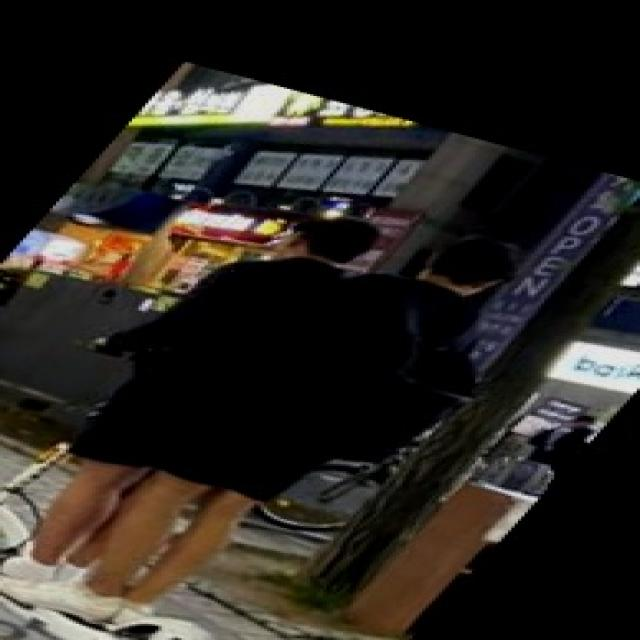bare_head: (413, 225, 514, 297), (271, 205, 373, 271)
human: (63, 228, 508, 605), (7, 205, 374, 586)
kickboard: (0, 491, 207, 640)
